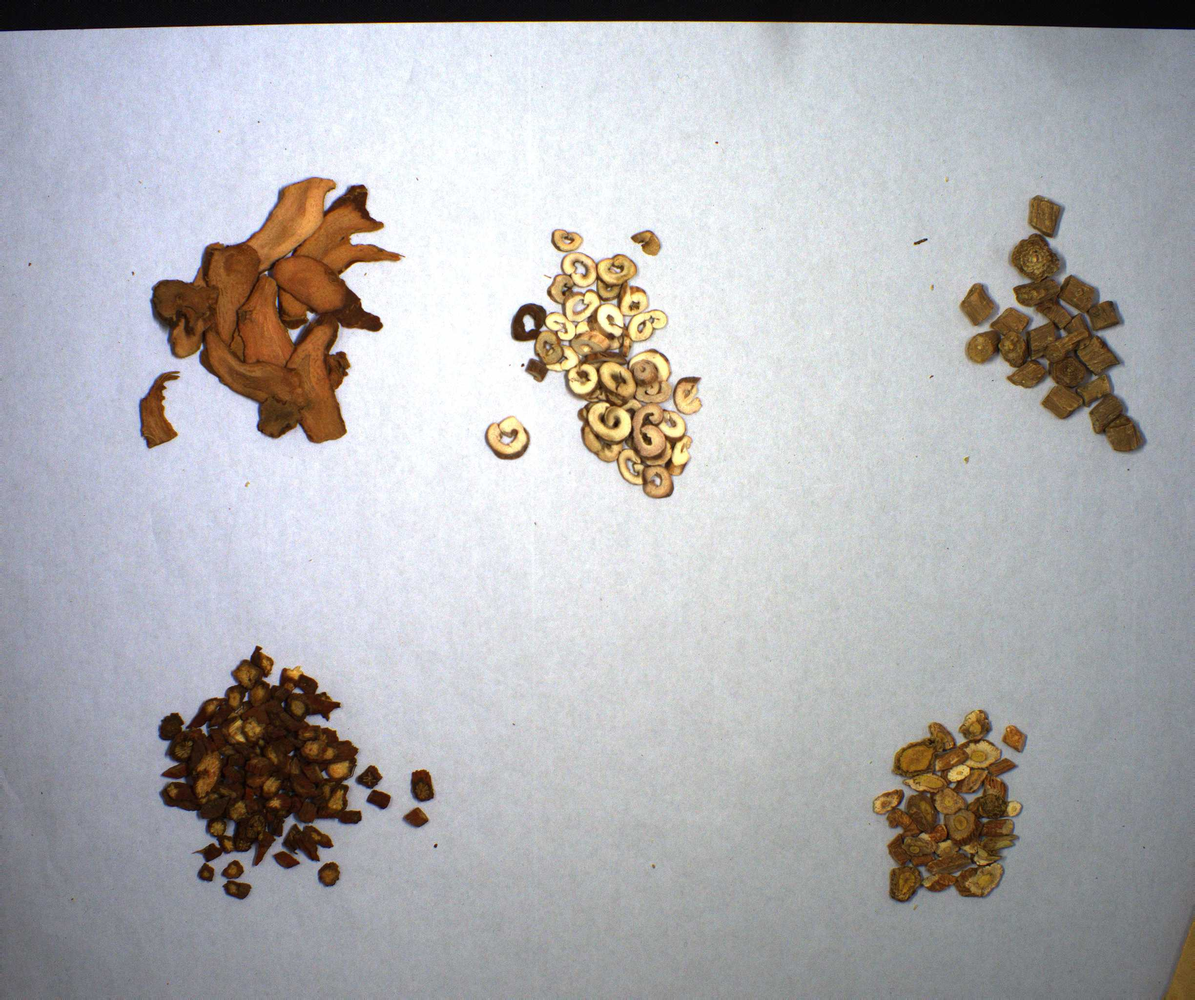banlangen: (850, 701, 1052, 925)
danshen: (128, 634, 445, 908)
gaoliangjiang: (109, 161, 399, 473)
mudanpi: (463, 205, 747, 527)
niuxi: (902, 155, 1179, 465)
